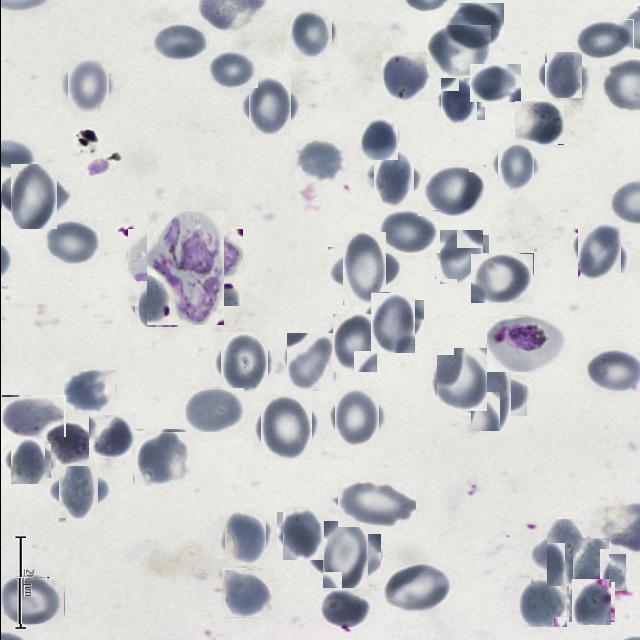red blood cell: (337, 480, 415, 527), (380, 563, 450, 613), (256, 397, 315, 456), (315, 528, 374, 586), (426, 25, 490, 78), (334, 240, 392, 298), (422, 164, 486, 216), (433, 351, 490, 408), (470, 253, 533, 303), (133, 429, 189, 485), (6, 168, 62, 224), (462, 368, 518, 423), (443, 2, 504, 50), (216, 336, 270, 390), (539, 525, 593, 579), (3, 577, 64, 624), (564, 546, 617, 599), (365, 296, 418, 348), (330, 392, 382, 444), (328, 317, 380, 369), (52, 464, 104, 516), (284, 336, 336, 388), (184, 387, 244, 432), (0, 396, 64, 438), (379, 209, 439, 253), (244, 81, 295, 132), (574, 226, 624, 278), (43, 220, 100, 265), (436, 232, 486, 282), (42, 422, 97, 466), (222, 568, 270, 618), (220, 514, 270, 562), (575, 19, 633, 59), (63, 62, 111, 110), (368, 154, 416, 202), (278, 510, 326, 558), (518, 578, 566, 626), (381, 52, 429, 100), (318, 587, 372, 629), (514, 100, 564, 145), (588, 349, 640, 392), (294, 140, 345, 182), (63, 370, 114, 412), (288, 12, 334, 58), (88, 414, 135, 458), (153, 23, 208, 60), (436, 80, 481, 124), (206, 50, 257, 88), (469, 64, 520, 102), (136, 282, 179, 325), (494, 144, 536, 188), (570, 580, 612, 624), (355, 118, 397, 160), (542, 54, 584, 96), (7, 441, 47, 481)
trophozoite: (136, 220, 232, 316), (486, 316, 564, 372)
